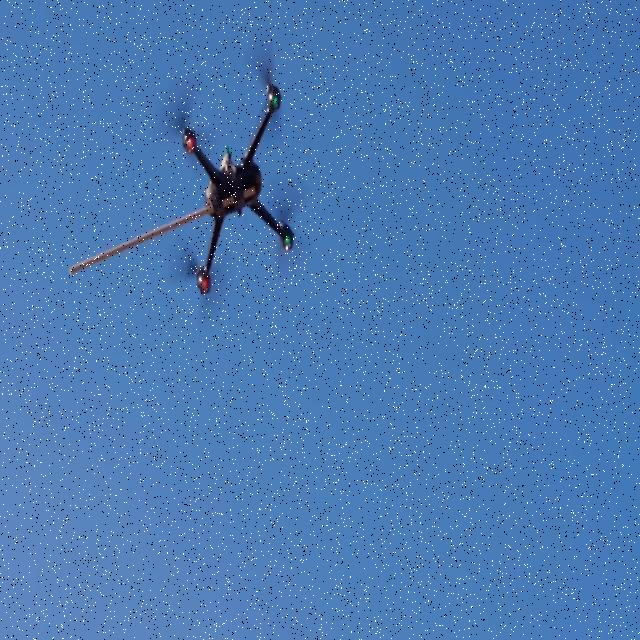UAV: (172, 72, 296, 301)
